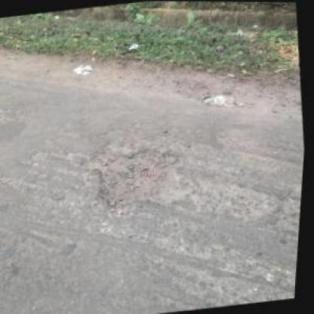Hueco: (78, 141, 198, 216)
